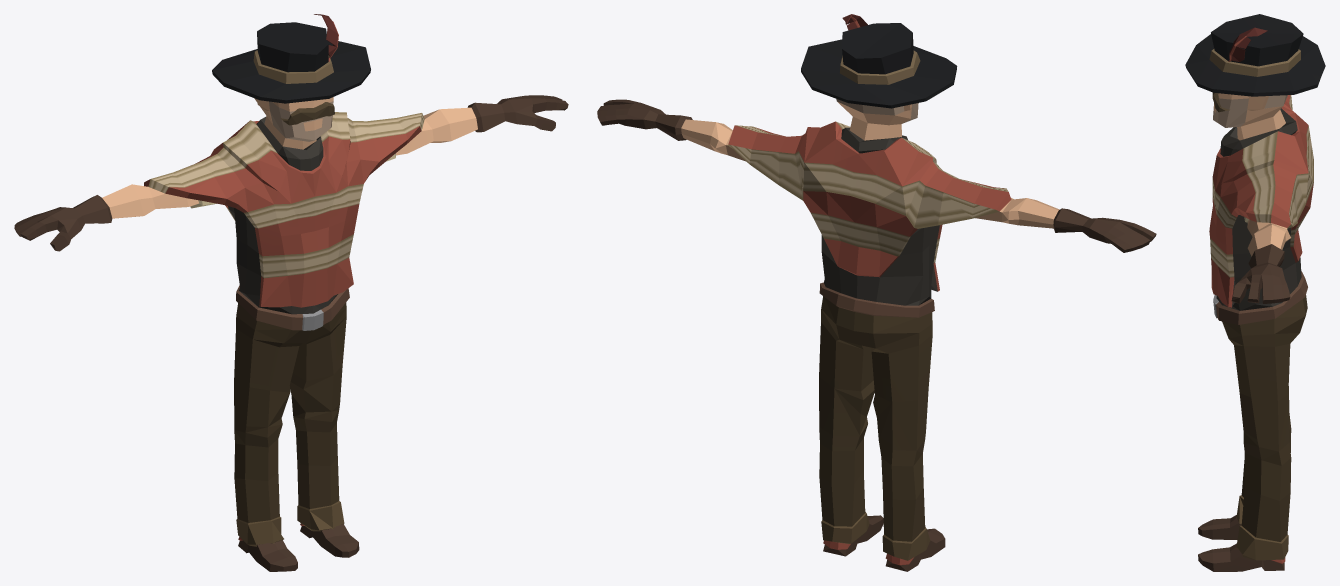
Rendered from gunman.fbx.
The picture shows the model from 3 angles, left to right: view 1: azimuth 30°, elevation 25°; view 2: azimuth 150°, elevation 25°; view 3: azimuth 270°, elevation 25°; orthographic projection. The views are drawn at different scales.
Parts seen in each view (by area): view 1: Character_Gunman_01_3; view 2: Character_Gunman_01_3; view 3: Character_Gunman_01_3.
Part boxes in pixels (left/top/right/bottom): Character_Gunman_01_3: left=14, top=14, right=568, bottom=571; Character_Gunman_01_3: left=597, top=14, right=1156, bottom=571; Character_Gunman_01_3: left=1185, top=14, right=1325, bottom=571.
Size of the model in its own units: 205 by 189 by 44.77.
